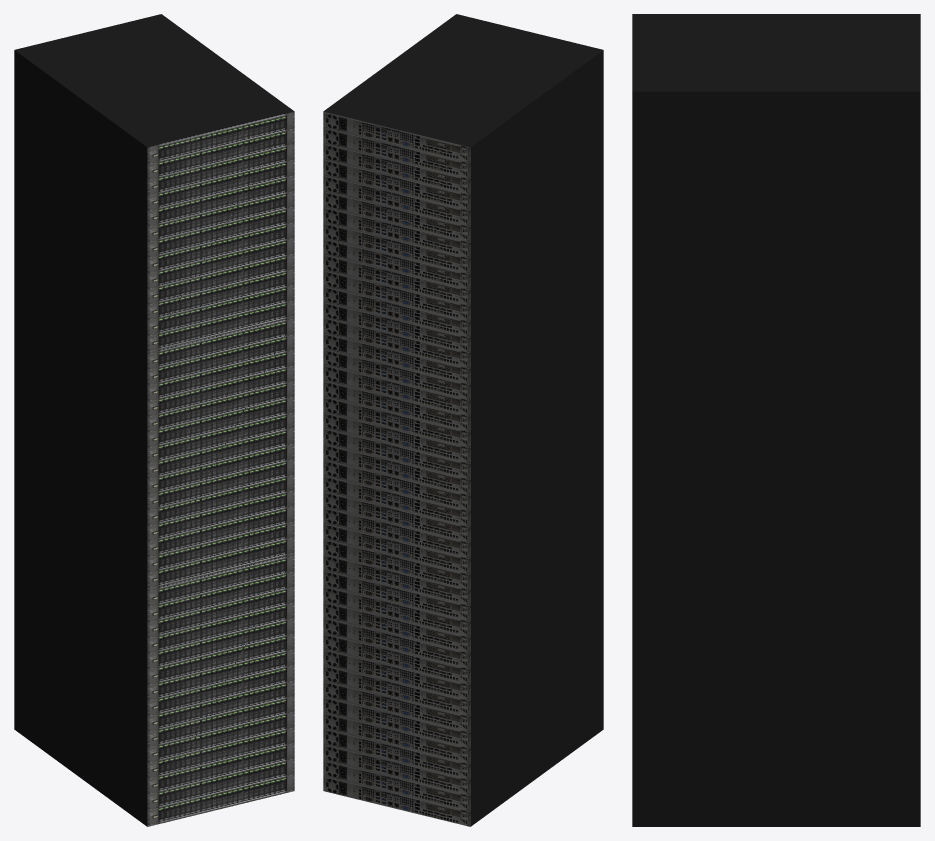
File: ADR43.fbx
The picture shows the model from 3 angles, left to right: view 1: azimuth 30°, elevation 25°; view 2: azimuth 150°, elevation 25°; view 3: azimuth 270°, elevation 25°; orthographic projection. The views are drawn at different scales.
Visible parts, largest first — view 1: ADR43; view 2: ADR43; view 3: ADR43.
Boxes of the visible parts, <box> form: ADR43: <box>14,14,294,826</box>; ADR43: <box>323,14,603,826</box>; ADR43: <box>632,14,920,826</box>.
Bounding box in the file's own units: 434 × 1914 × 680.
Materials: 3 (2 with a texture image).
